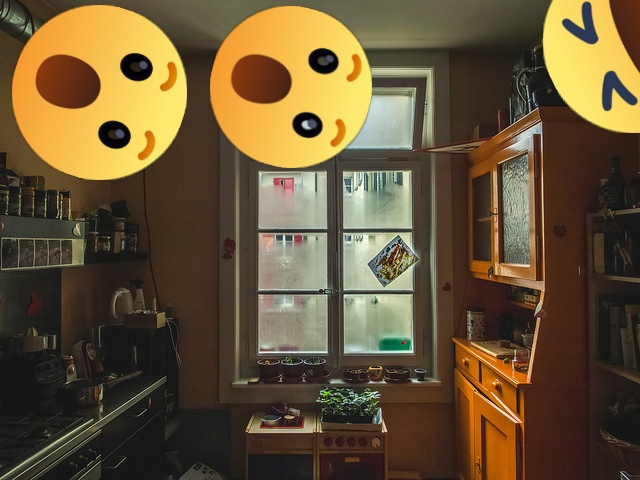haha: (543, 0, 640, 133)
wow: (12, 5, 187, 180), (210, 6, 372, 168)
